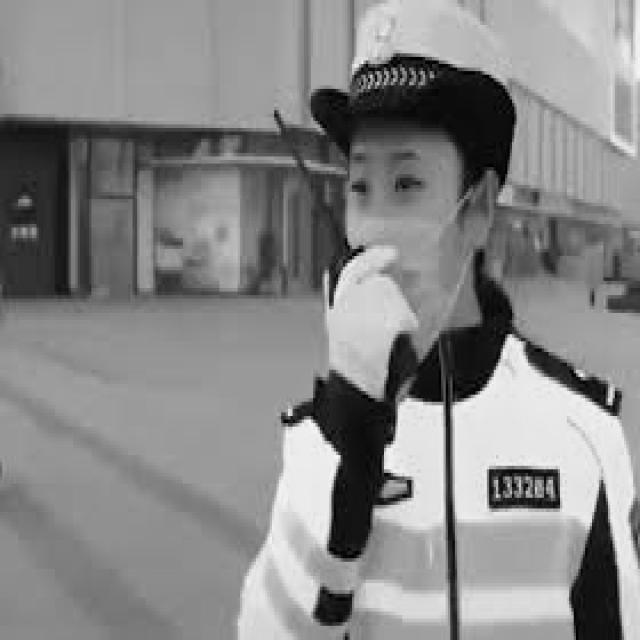with_mask: (343, 178, 482, 362)
